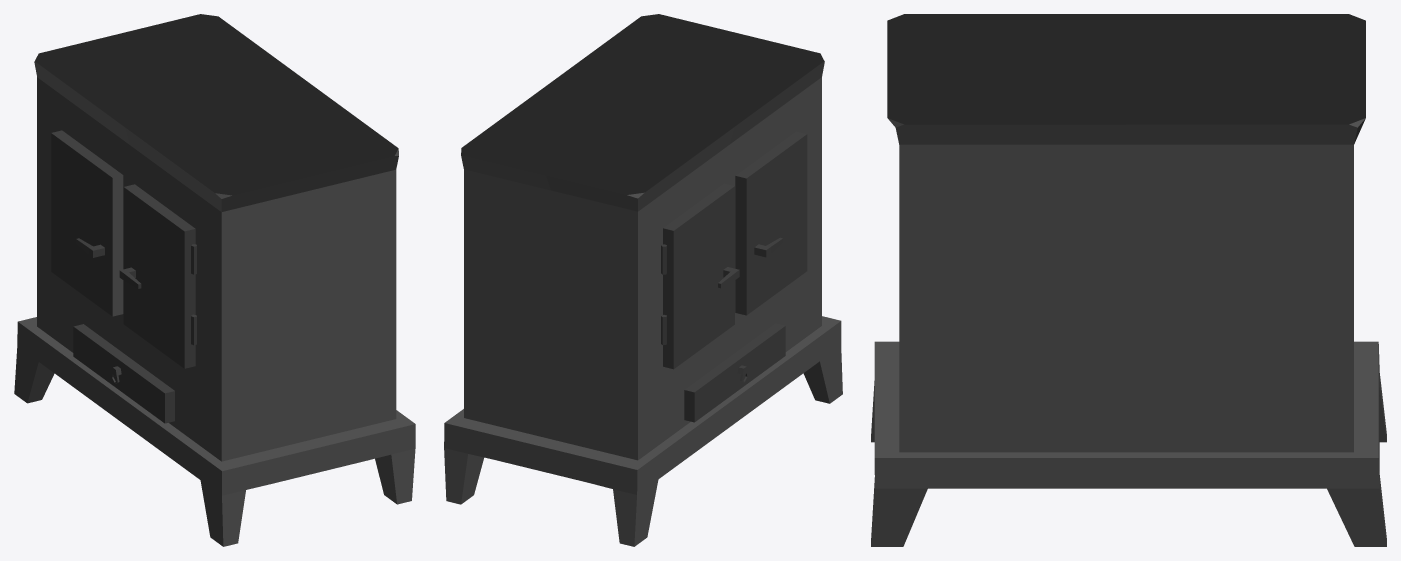
The model's file is woodstove01.obj.
3 views of the same model, side by side, from view 1: azimuth 30°, elevation 25°; view 2: azimuth 150°, elevation 25°; view 3: azimuth 270°, elevation 25° (orthographic). The views are drawn at different scales.
Parts seen in each view (by area): view 1: Cylinder.001_Cylinder.005; view 2: Cylinder.001_Cylinder.005; view 3: Cylinder.001_Cylinder.005.
Boxes of the visible parts, x1=… form: Cylinder.001_Cylinder.005: x1=14, y1=14, x2=415, y2=546; Cylinder.001_Cylinder.005: x1=444, y1=14, x2=842, y2=546; Cylinder.001_Cylinder.005: x1=871, y1=14, x2=1386, y2=546.
Bounding box in the file's own units: 0.5186 × 0.8202 × 0.9071.
